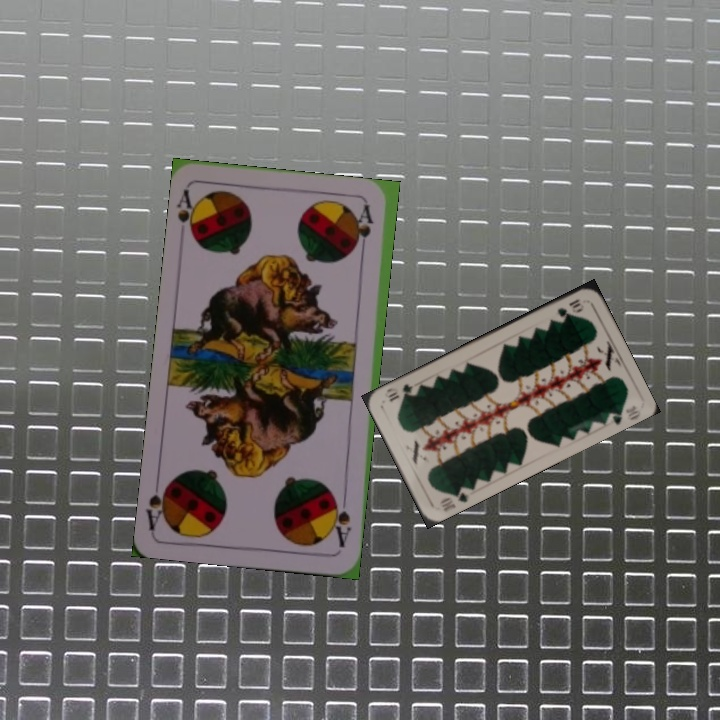G10: (436, 483, 471, 514), (553, 295, 586, 320)
SA: (174, 185, 203, 245), (328, 492, 354, 550)
